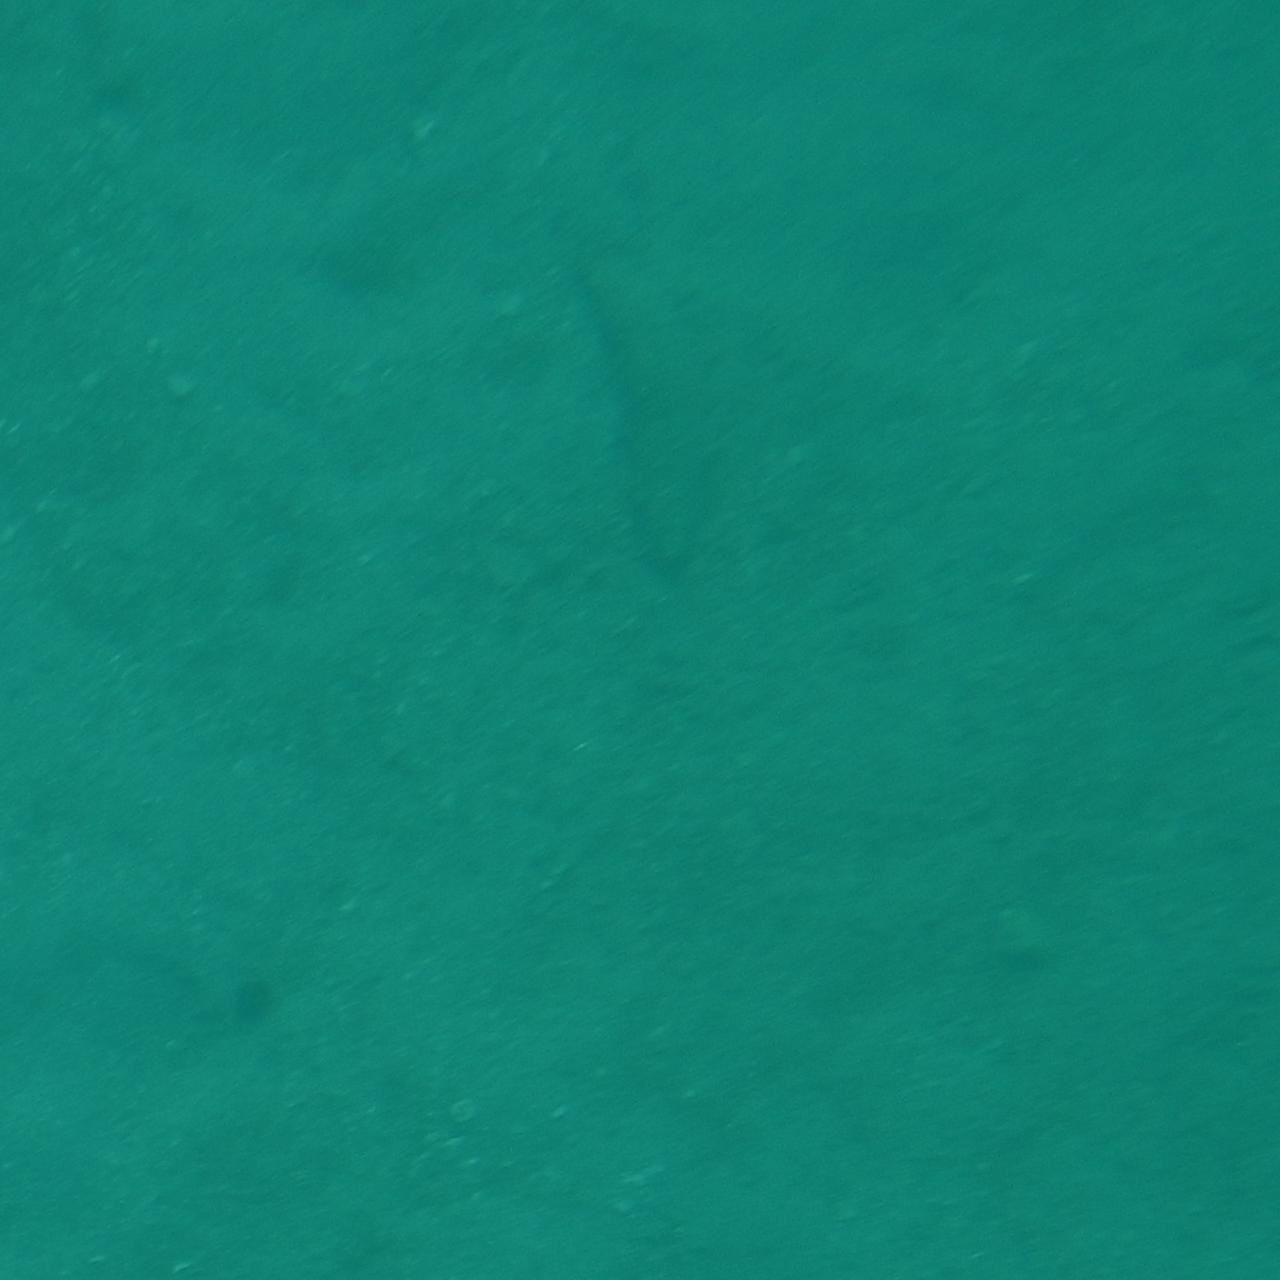Holothuria tubulosa: (555, 192, 725, 575)
